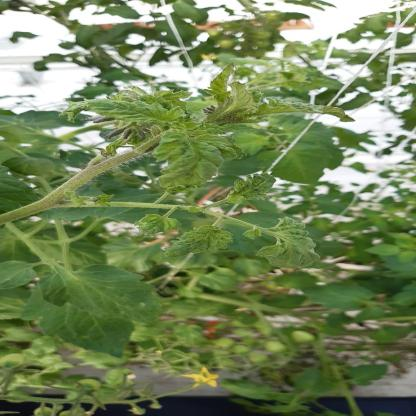T_L_H: (24, 291, 135, 358), (40, 265, 159, 323), (1, 262, 38, 289)
T_L_R: (153, 131, 224, 189), (256, 218, 320, 269), (252, 97, 355, 122), (87, 100, 182, 125), (164, 226, 233, 258), (225, 175, 276, 204), (196, 135, 247, 160), (135, 208, 180, 236), (207, 64, 235, 103)
T_S_H: (110, 203, 256, 229)
T_S_R: (1, 134, 163, 224)
